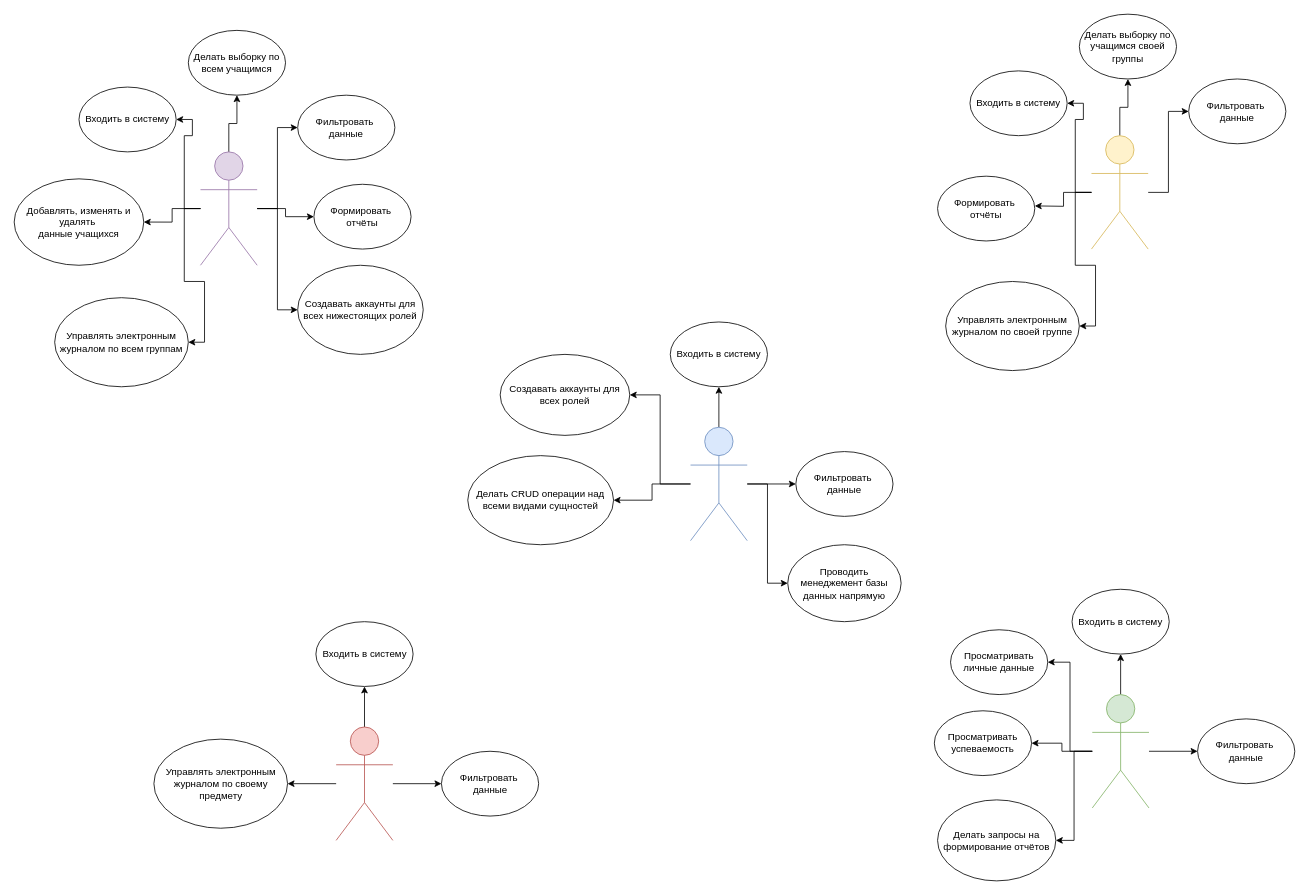
The diagram is 1309 pixels wide and 895 high, and some of its shapes have lost their labels. The shapes that lost their labels are listed below. From the top down, each one's centre as x and y in pixels, then its label:
the point at 228,208: Секретарь
the point at 1119,192: Куратор
the point at 718,483: Администратор
the point at 1120,751: Студент
the point at 364,783: Преподователь
